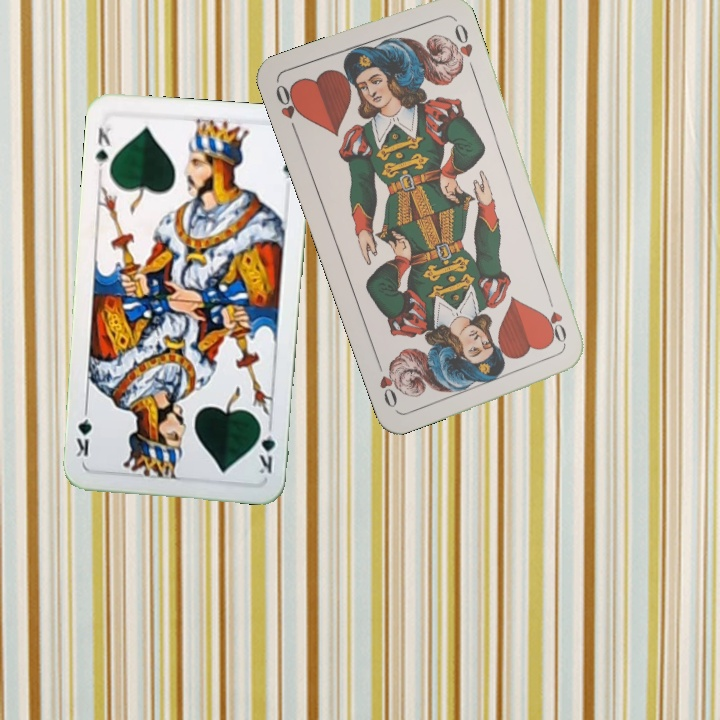GK: (254, 419, 278, 477), (91, 123, 114, 170)
HO: (271, 80, 305, 137), (543, 291, 570, 349)
